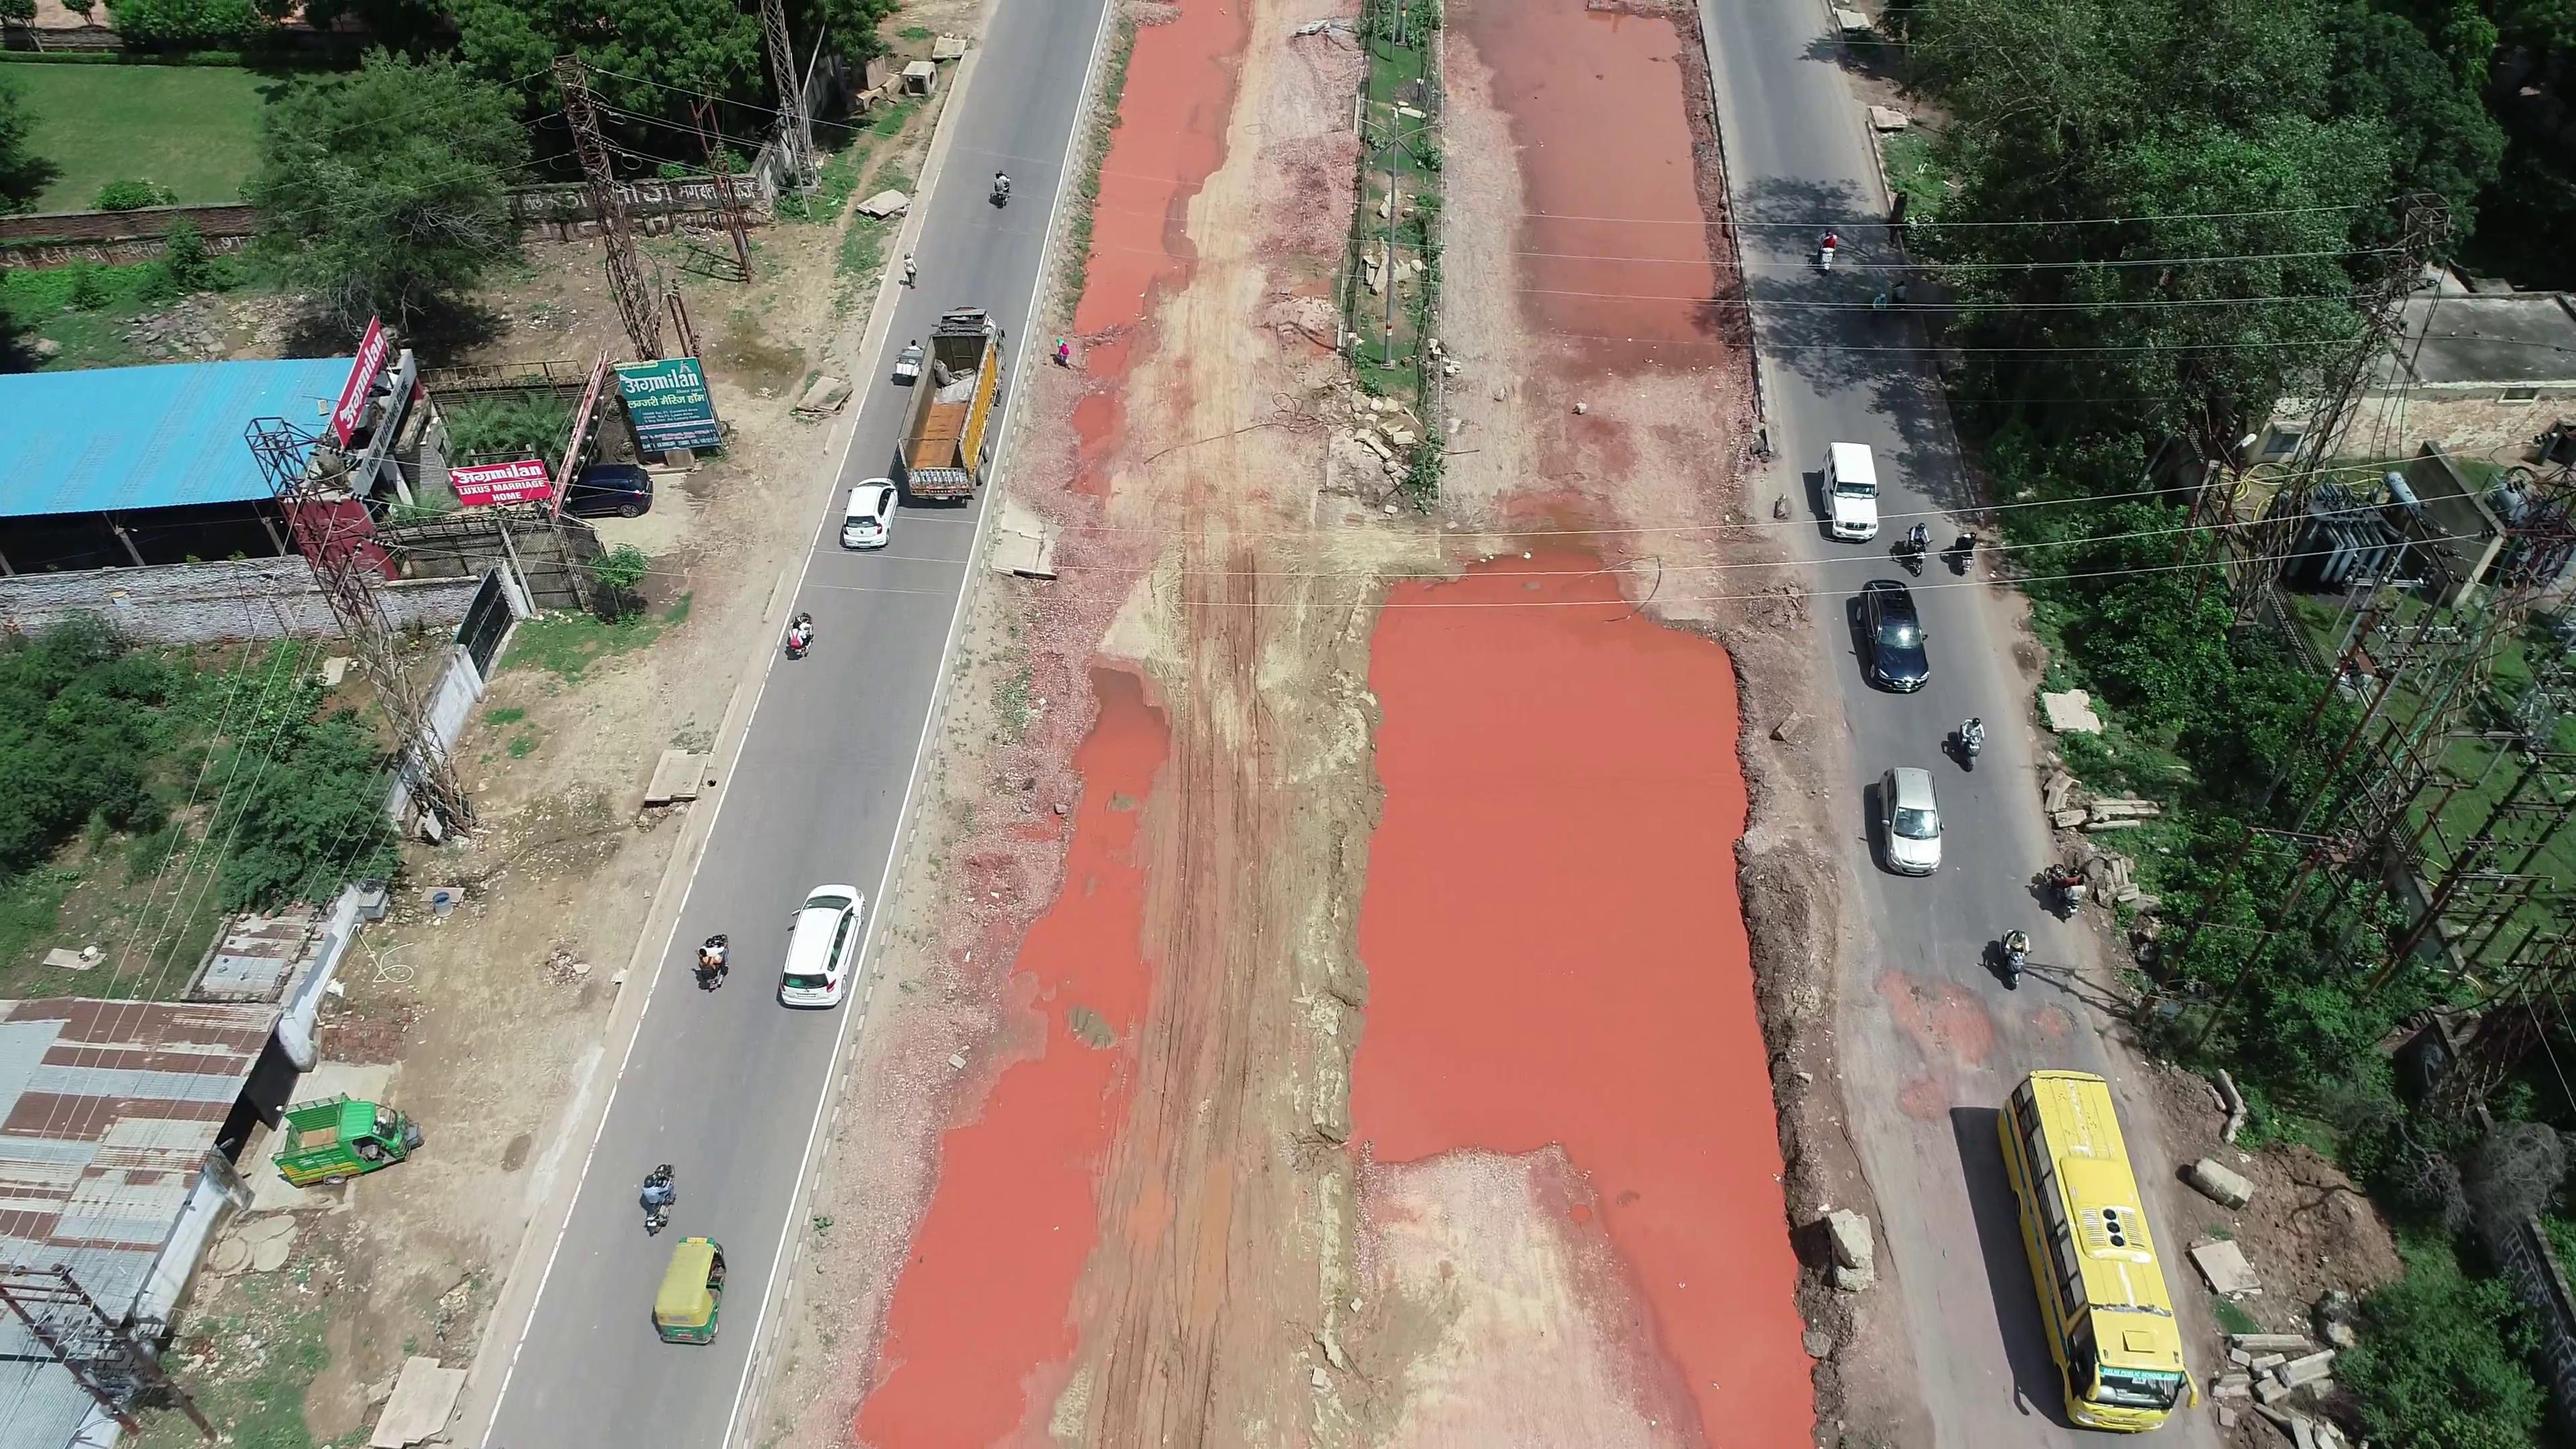Potholes: (2005, 987, 2097, 1063)
